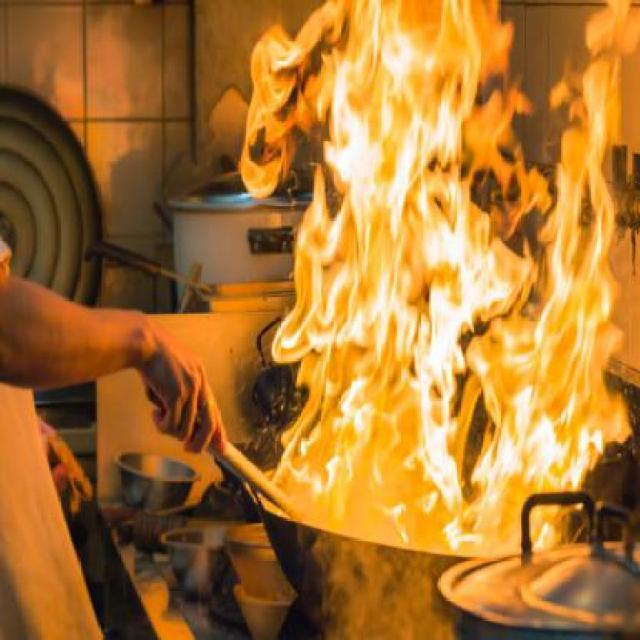Fire: (245, 0, 640, 553)
Smoke: (73, 0, 258, 307), (282, 488, 528, 640), (450, 0, 615, 185)
